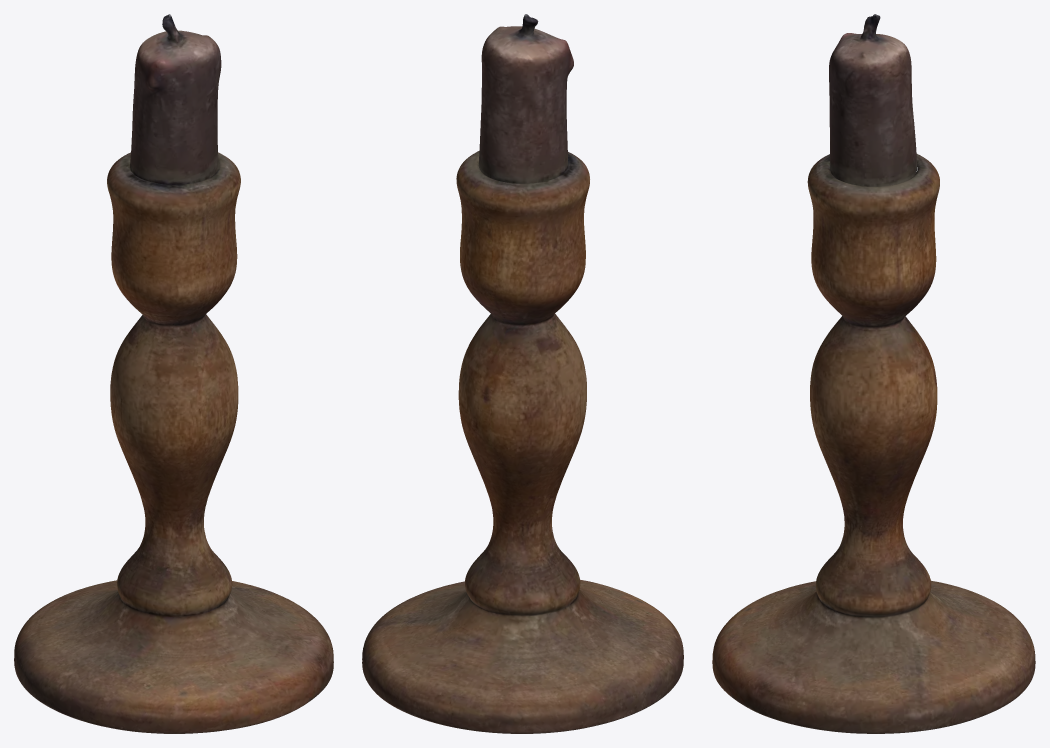
The model's file is wooden_candlestick.glb.
The picture shows the model from 3 angles, left to right: view 1: azimuth 30°, elevation 25°; view 2: azimuth 150°, elevation 25°; view 3: azimuth 270°, elevation 25°; orthographic projection.
Parts seen in each view (by area): view 1: wooden_candlestick; view 2: wooden_candlestick; view 3: wooden_candlestick.
Boxes of the visible parts, x1,y1,x2,y2 form: wooden_candlestick: (14, 14, 333, 733); wooden_candlestick: (362, 14, 683, 733); wooden_candlestick: (712, 14, 1035, 733).
Bounding box in the file's own units: 0.0972 × 0.2197 × 0.0987.
1 material, 1 textured.
